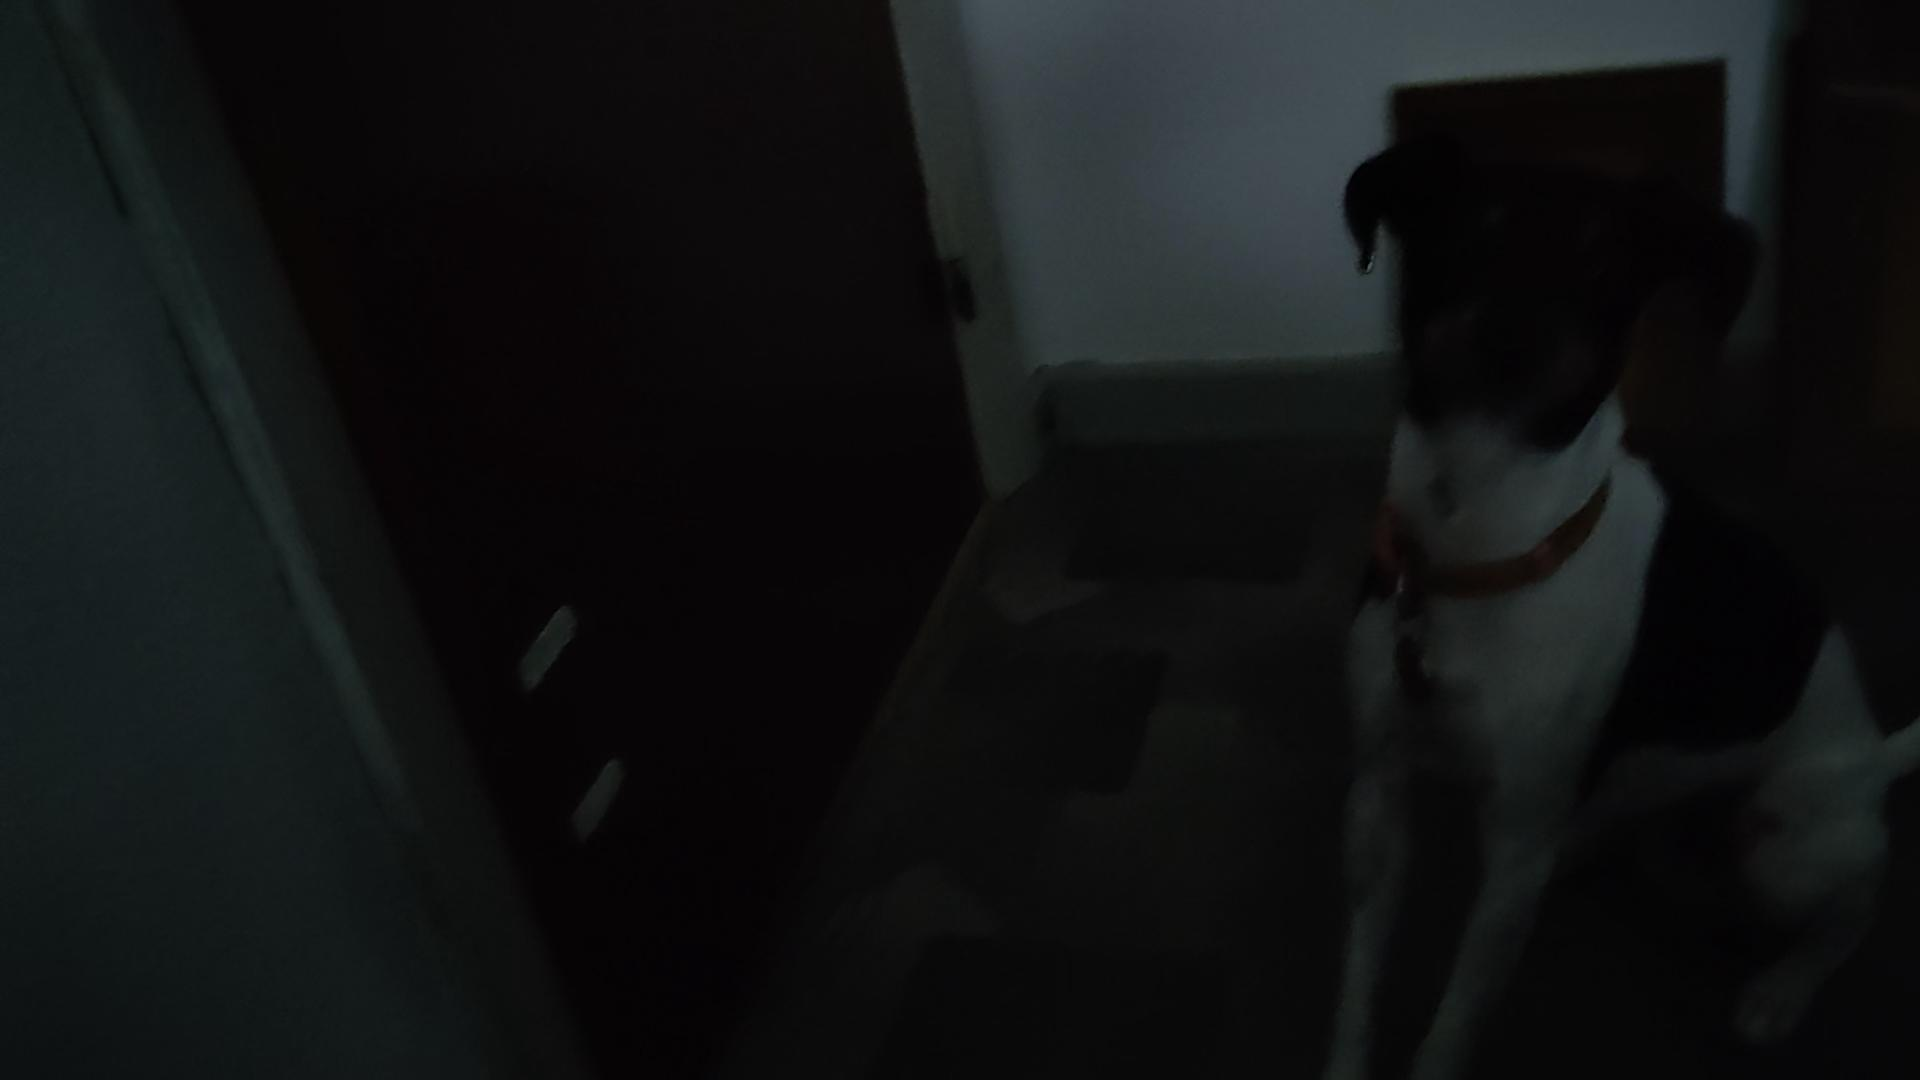Dog: (1292, 113, 1919, 1079)
